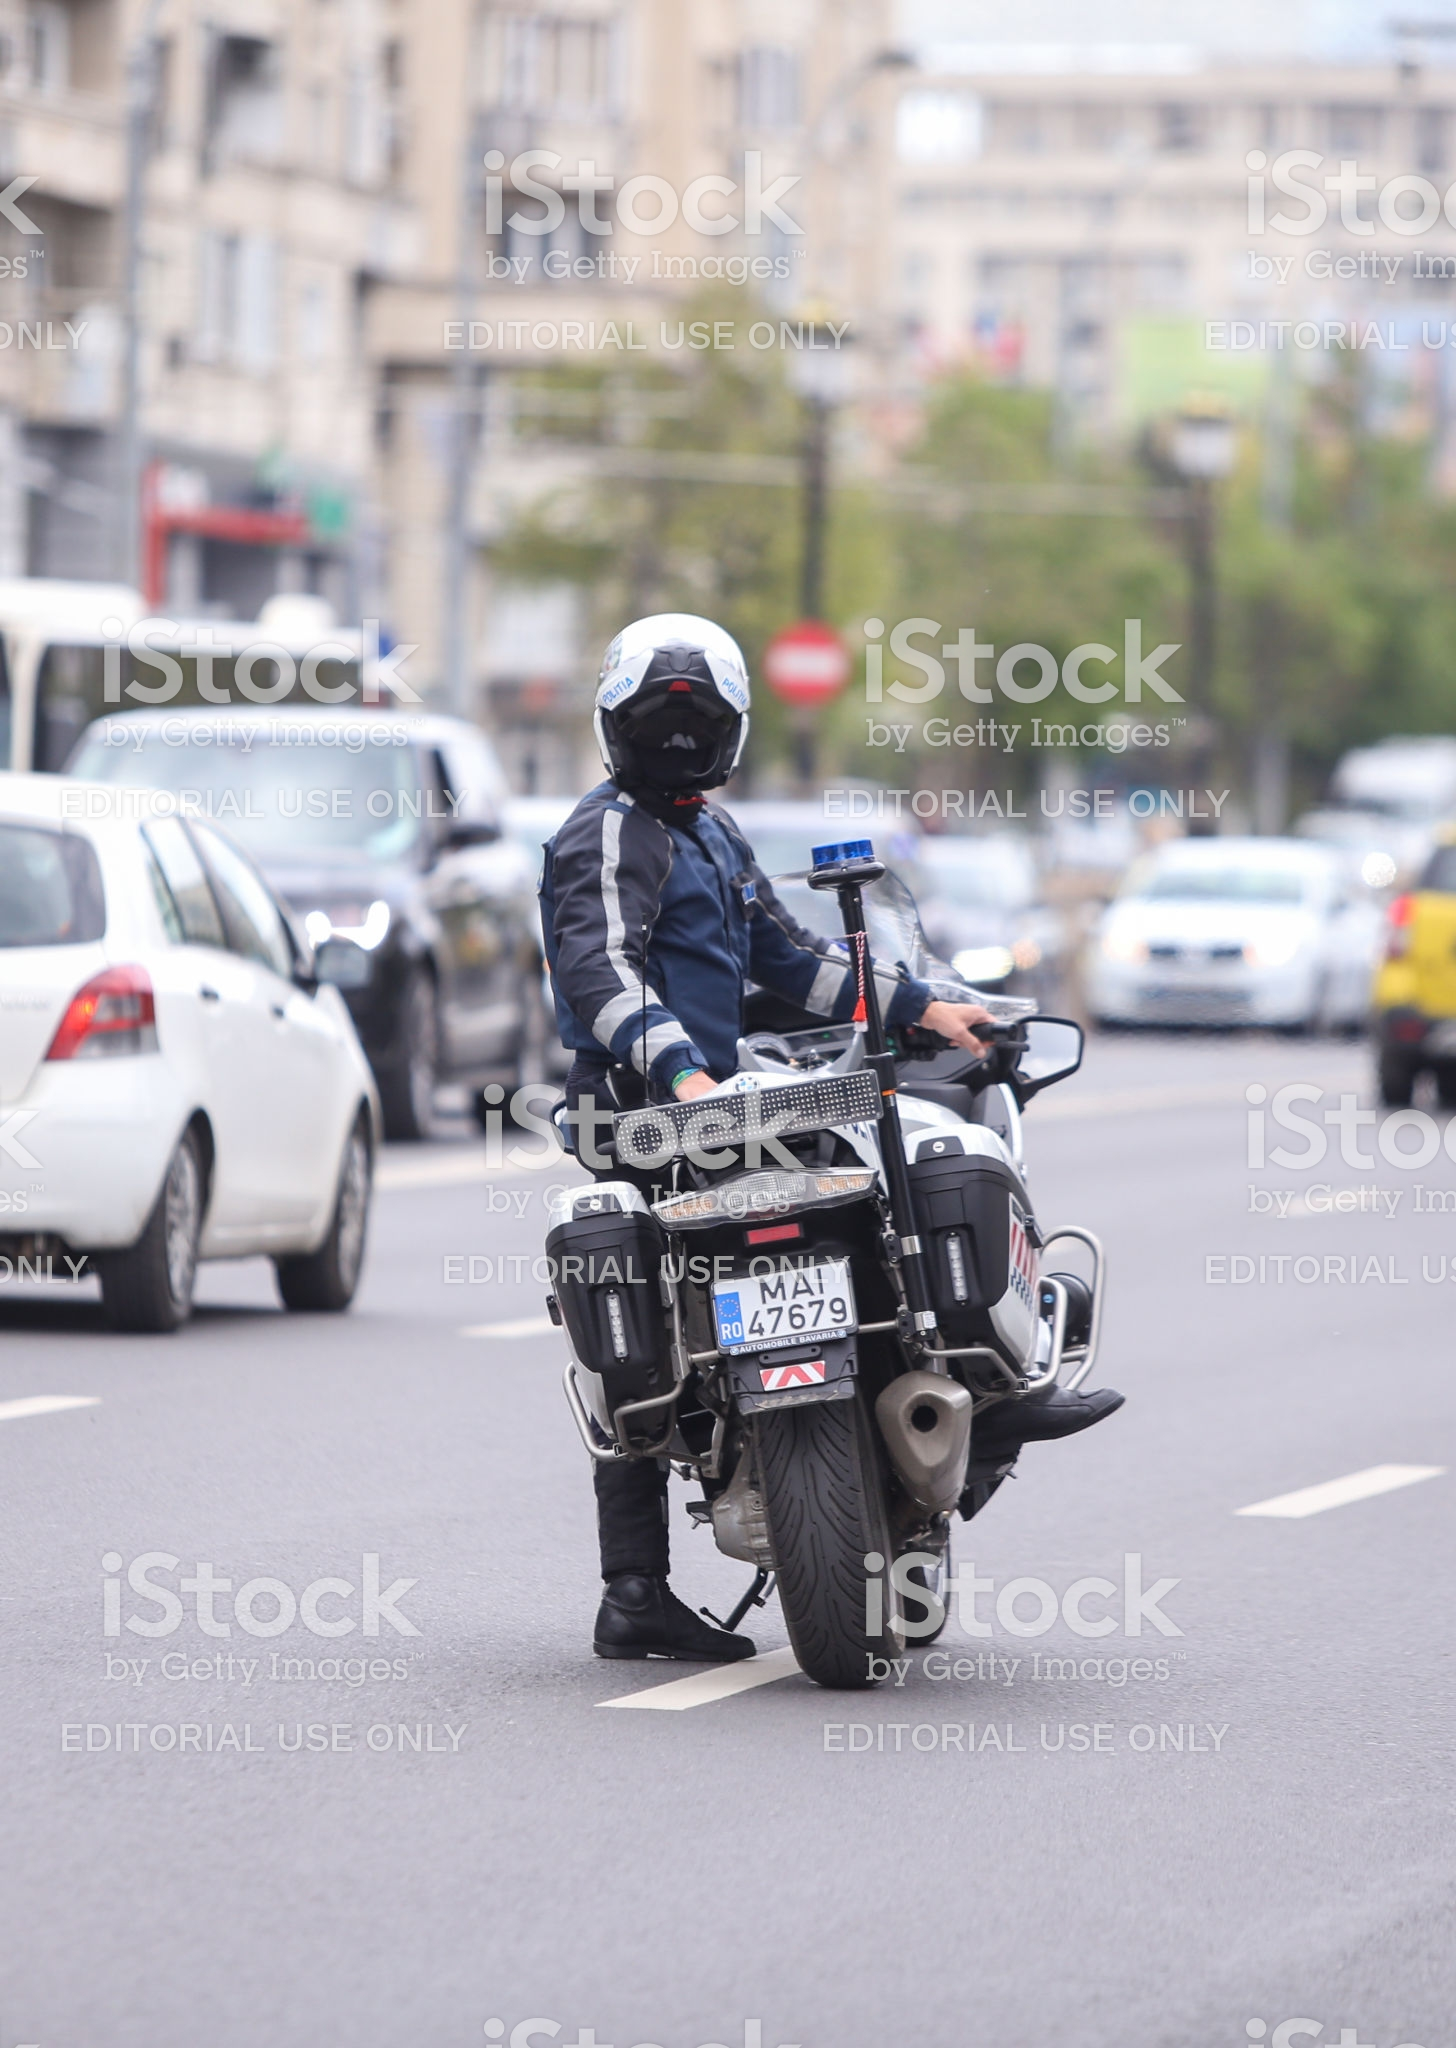helmet: (574, 616, 783, 819)
